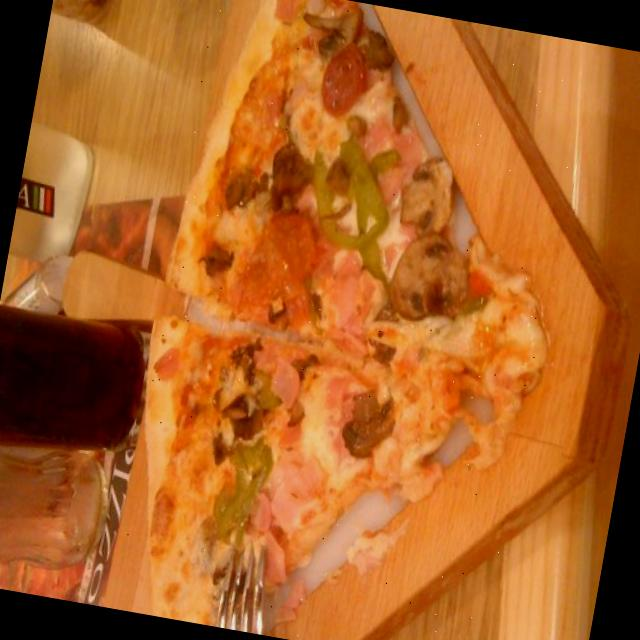Bell Pepper: (298, 90, 415, 264)
mushrooms: (384, 134, 474, 252), (323, 356, 410, 478), (381, 234, 464, 330), (260, 128, 334, 215)
pizza: (151, 0, 544, 625)
tomato: (301, 24, 381, 138)
